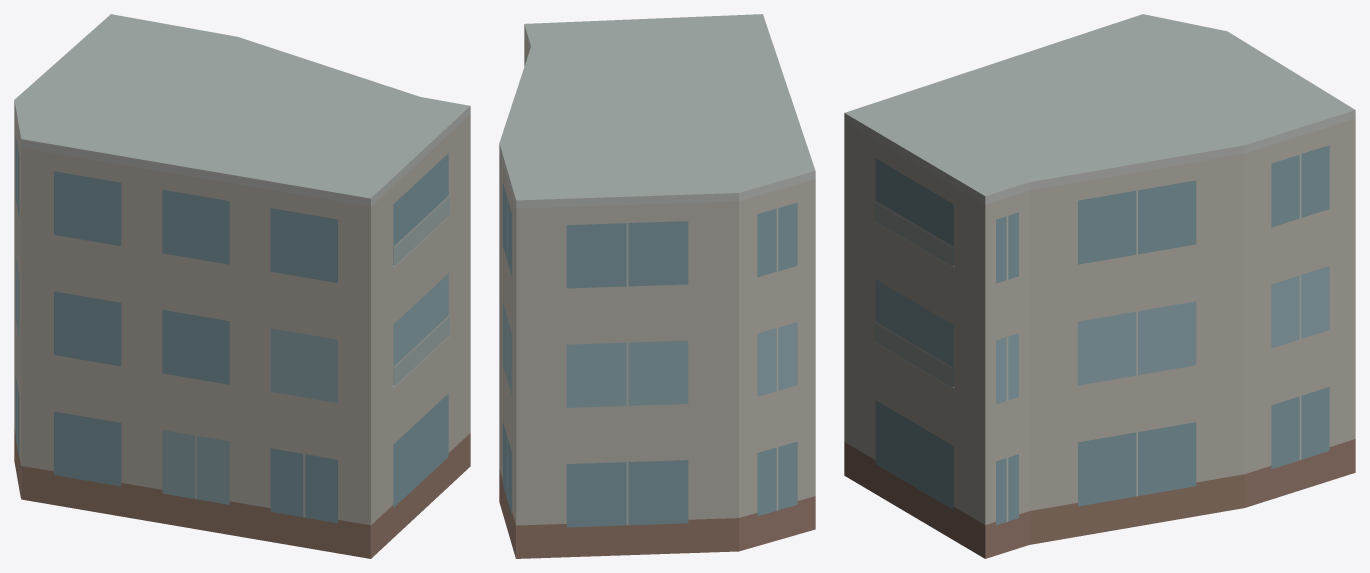
Rendered from survey-upis-32780242.glb.
3 renders of one model, left to right at view 1: azimuth 30°, elevation 25°; view 2: azimuth 150°, elevation 25°; view 3: azimuth 270°, elevation 25°, orthographic.
Parts seen in each view (by area): view 1: survey-upis-32780242.tmp; view 2: survey-upis-32780242.tmp; view 3: survey-upis-32780242.tmp.
Part boxes in pixels (box(x1,y1,x2,y2)): survey-upis-32780242.tmp: box(14, 14, 470, 558); survey-upis-32780242.tmp: box(499, 14, 815, 558); survey-upis-32780242.tmp: box(844, 14, 1355, 558).
Bounding box in the file's own units: 11.38 × 10.55 × 13.49.
